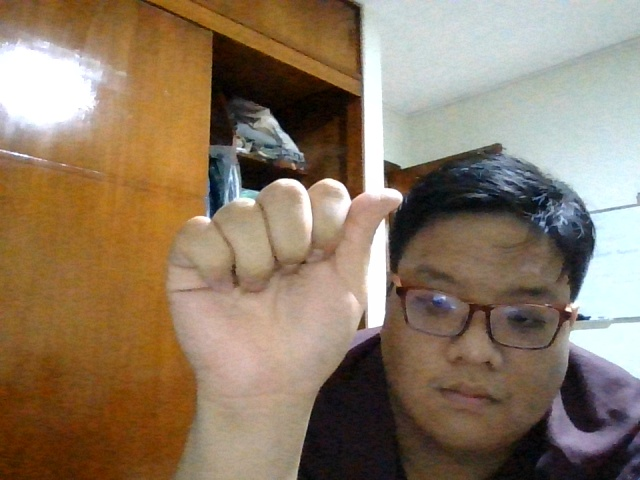a: (162, 175, 409, 409)
